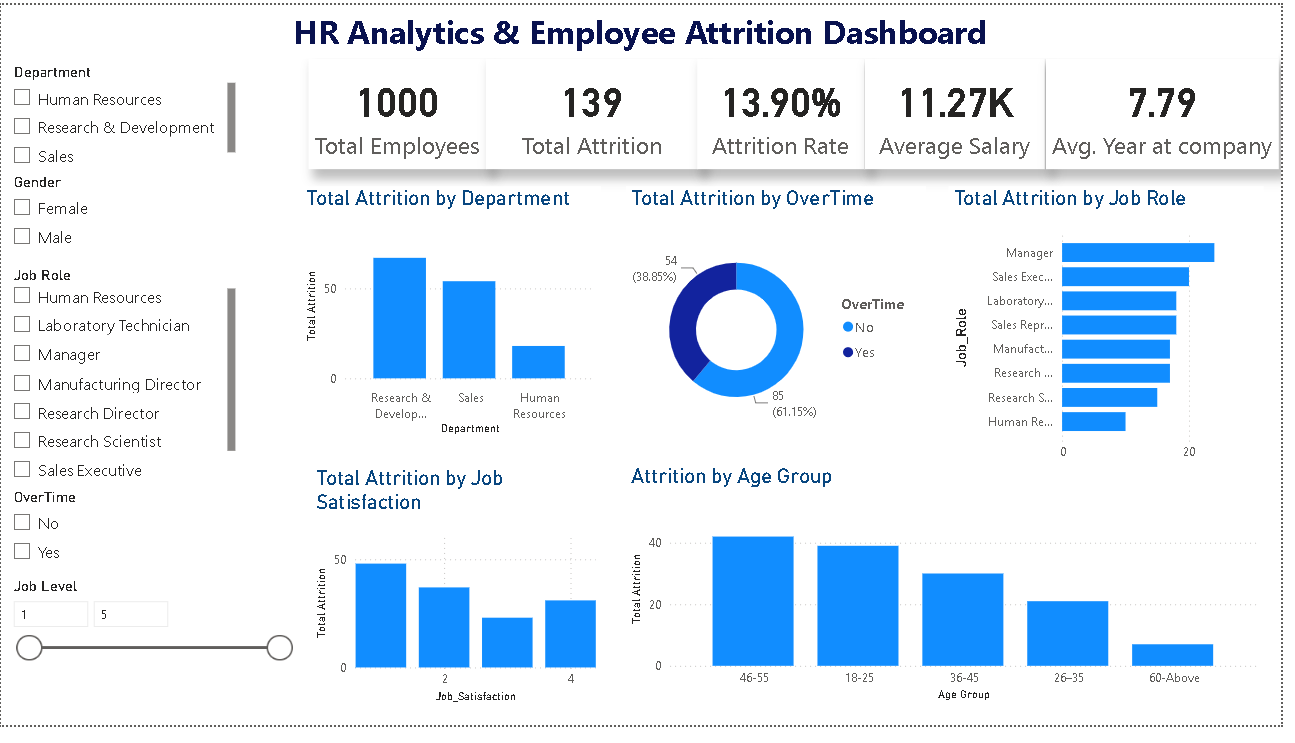

Layout of this report page (visuals, bound fields, positions):
{"tool":"powerbi","page":{"name":"Page 1","canvas":[1280,720],"ordinal":0},"visuals":[{"type":"card","fields":{"Values":["Sheet1.Total Employee"]},"box":[307.5,53.8,177.9,110.5],"z":0},{"type":"card","fields":{"Values":["Sheet1.Total Attrition"]},"box":[485,53.8,211.6,110.5],"z":1000},{"type":"card","fields":{"Values":["Sheet1.Attrition Rate"]},"box":[696.2,53.8,167.4,110.5],"z":2000},{"type":"card","fields":{"Values":["Sheet1.Average Salary"]},"box":[863.8,53.8,180.2,110.5],"z":3000},{"type":"card","fields":{"Values":["Sheet1.Average Year"]},"box":[1045,53.8,232.5,110],"z":4000},{"type":"clusteredColumnChart","fields":{"Category":["Sheet1.Department"],"Y":["Sheet1.Total Attrition"]},"box":[300,181.4,299.6,252.9],"z":5000},{"type":"clusteredBarChart","title":"Total Attrition by Job Role","fields":{"Category":["Sheet1.Job_Role"],"Y":["Sheet1.Total Attrition"]},"box":[947.7,181.4,315.1,297.7],"z":6000},{"type":"donutChart","fields":{"Category":["Sheet1.OverTime"],"Y":["Sheet1.Total Attrition"]},"box":[625.6,181.4,300,253],"z":7000},{"type":"clusteredColumnChart","title":"Total Attrition by Job Satisfaction","fields":{"Category":["Sheet1.Job_Satisfaction"],"Y":["Sheet1.Total Attrition"]},"box":[300,433.8,300,286.2],"z":8000},{"type":"slicer","fields":{"Values":["Sheet1.Department"]},"box":[0,53.5,239.5,110.5],"z":9000},{"type":"slicer","fields":{"Values":["Sheet1.Gender"]},"box":[0,164,239.5,91.9],"z":10000},{"type":"slicer","fields":{"Values":["Sheet1.Job_Role"]},"box":[0,255.8,239.5,223.3],"z":11000},{"type":"slicer","fields":{"Values":["Sheet1.OverTime"]},"box":[0,479.1,239.5,103.9],"z":12000},{"type":"slicer","fields":{"Values":["Sheet1.Job_Level"]},"box":[0,567.4,300,152.3],"z":13000},{"type":"clusteredColumnChart","title":"Attrition by Age Group","fields":{"Y":["Sheet1.Total Attrition"],"Category":["Sheet1.Age Group"]},"box":[625,458.8,637.5,261.2],"z":14000},{"type":"textbox","box":[0,0,1277.9,53.5],"z":15000},{"type":"textbox","box":[0,0,140,12.5],"z":16000}]}

Visuals, with their boxes in screenshot pixels (x1, y1, x2, y2), scaled from the page's 1280x720 canvas onto the 1295x743 screenshot:
card - Sheet1.Total Employee: x1=311 y1=56 x2=491 y2=170
card - Sheet1.Total Attrition: x1=491 y1=56 x2=705 y2=170
card - Sheet1.Attrition Rate: x1=704 y1=56 x2=874 y2=170
card - Sheet1.Average Salary: x1=874 y1=56 x2=1056 y2=170
card - Sheet1.Average Year: x1=1057 y1=56 x2=1292 y2=169
clusteredColumnChart - Sheet1.Department x Sheet1.Total Attrition: x1=304 y1=187 x2=607 y2=448
"Total Attrition by Job Role" clusteredBarChart: x1=959 y1=187 x2=1278 y2=494
donutChart - Sheet1.OverTime x Sheet1.Total Attrition: x1=633 y1=187 x2=936 y2=448
"Total Attrition by Job Satisfaction" clusteredColumnChart: x1=304 y1=448 x2=607 y2=742
slicer - Sheet1.Department: x1=0 y1=55 x2=242 y2=169
slicer - Sheet1.Gender: x1=0 y1=169 x2=242 y2=264
slicer - Sheet1.Job_Role: x1=0 y1=264 x2=242 y2=494
slicer - Sheet1.OverTime: x1=0 y1=494 x2=242 y2=602
slicer - Sheet1.Job_Level: x1=0 y1=586 x2=304 y2=742
"Attrition by Age Group" clusteredColumnChart: x1=632 y1=473 x2=1277 y2=742
textbox: x1=0 y1=0 x2=1293 y2=55
textbox: x1=0 y1=0 x2=142 y2=13
